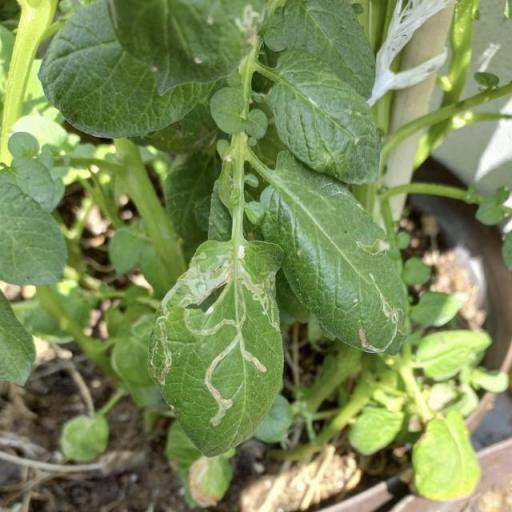disease_tomato: (257, 150, 410, 362), (153, 236, 286, 456)
